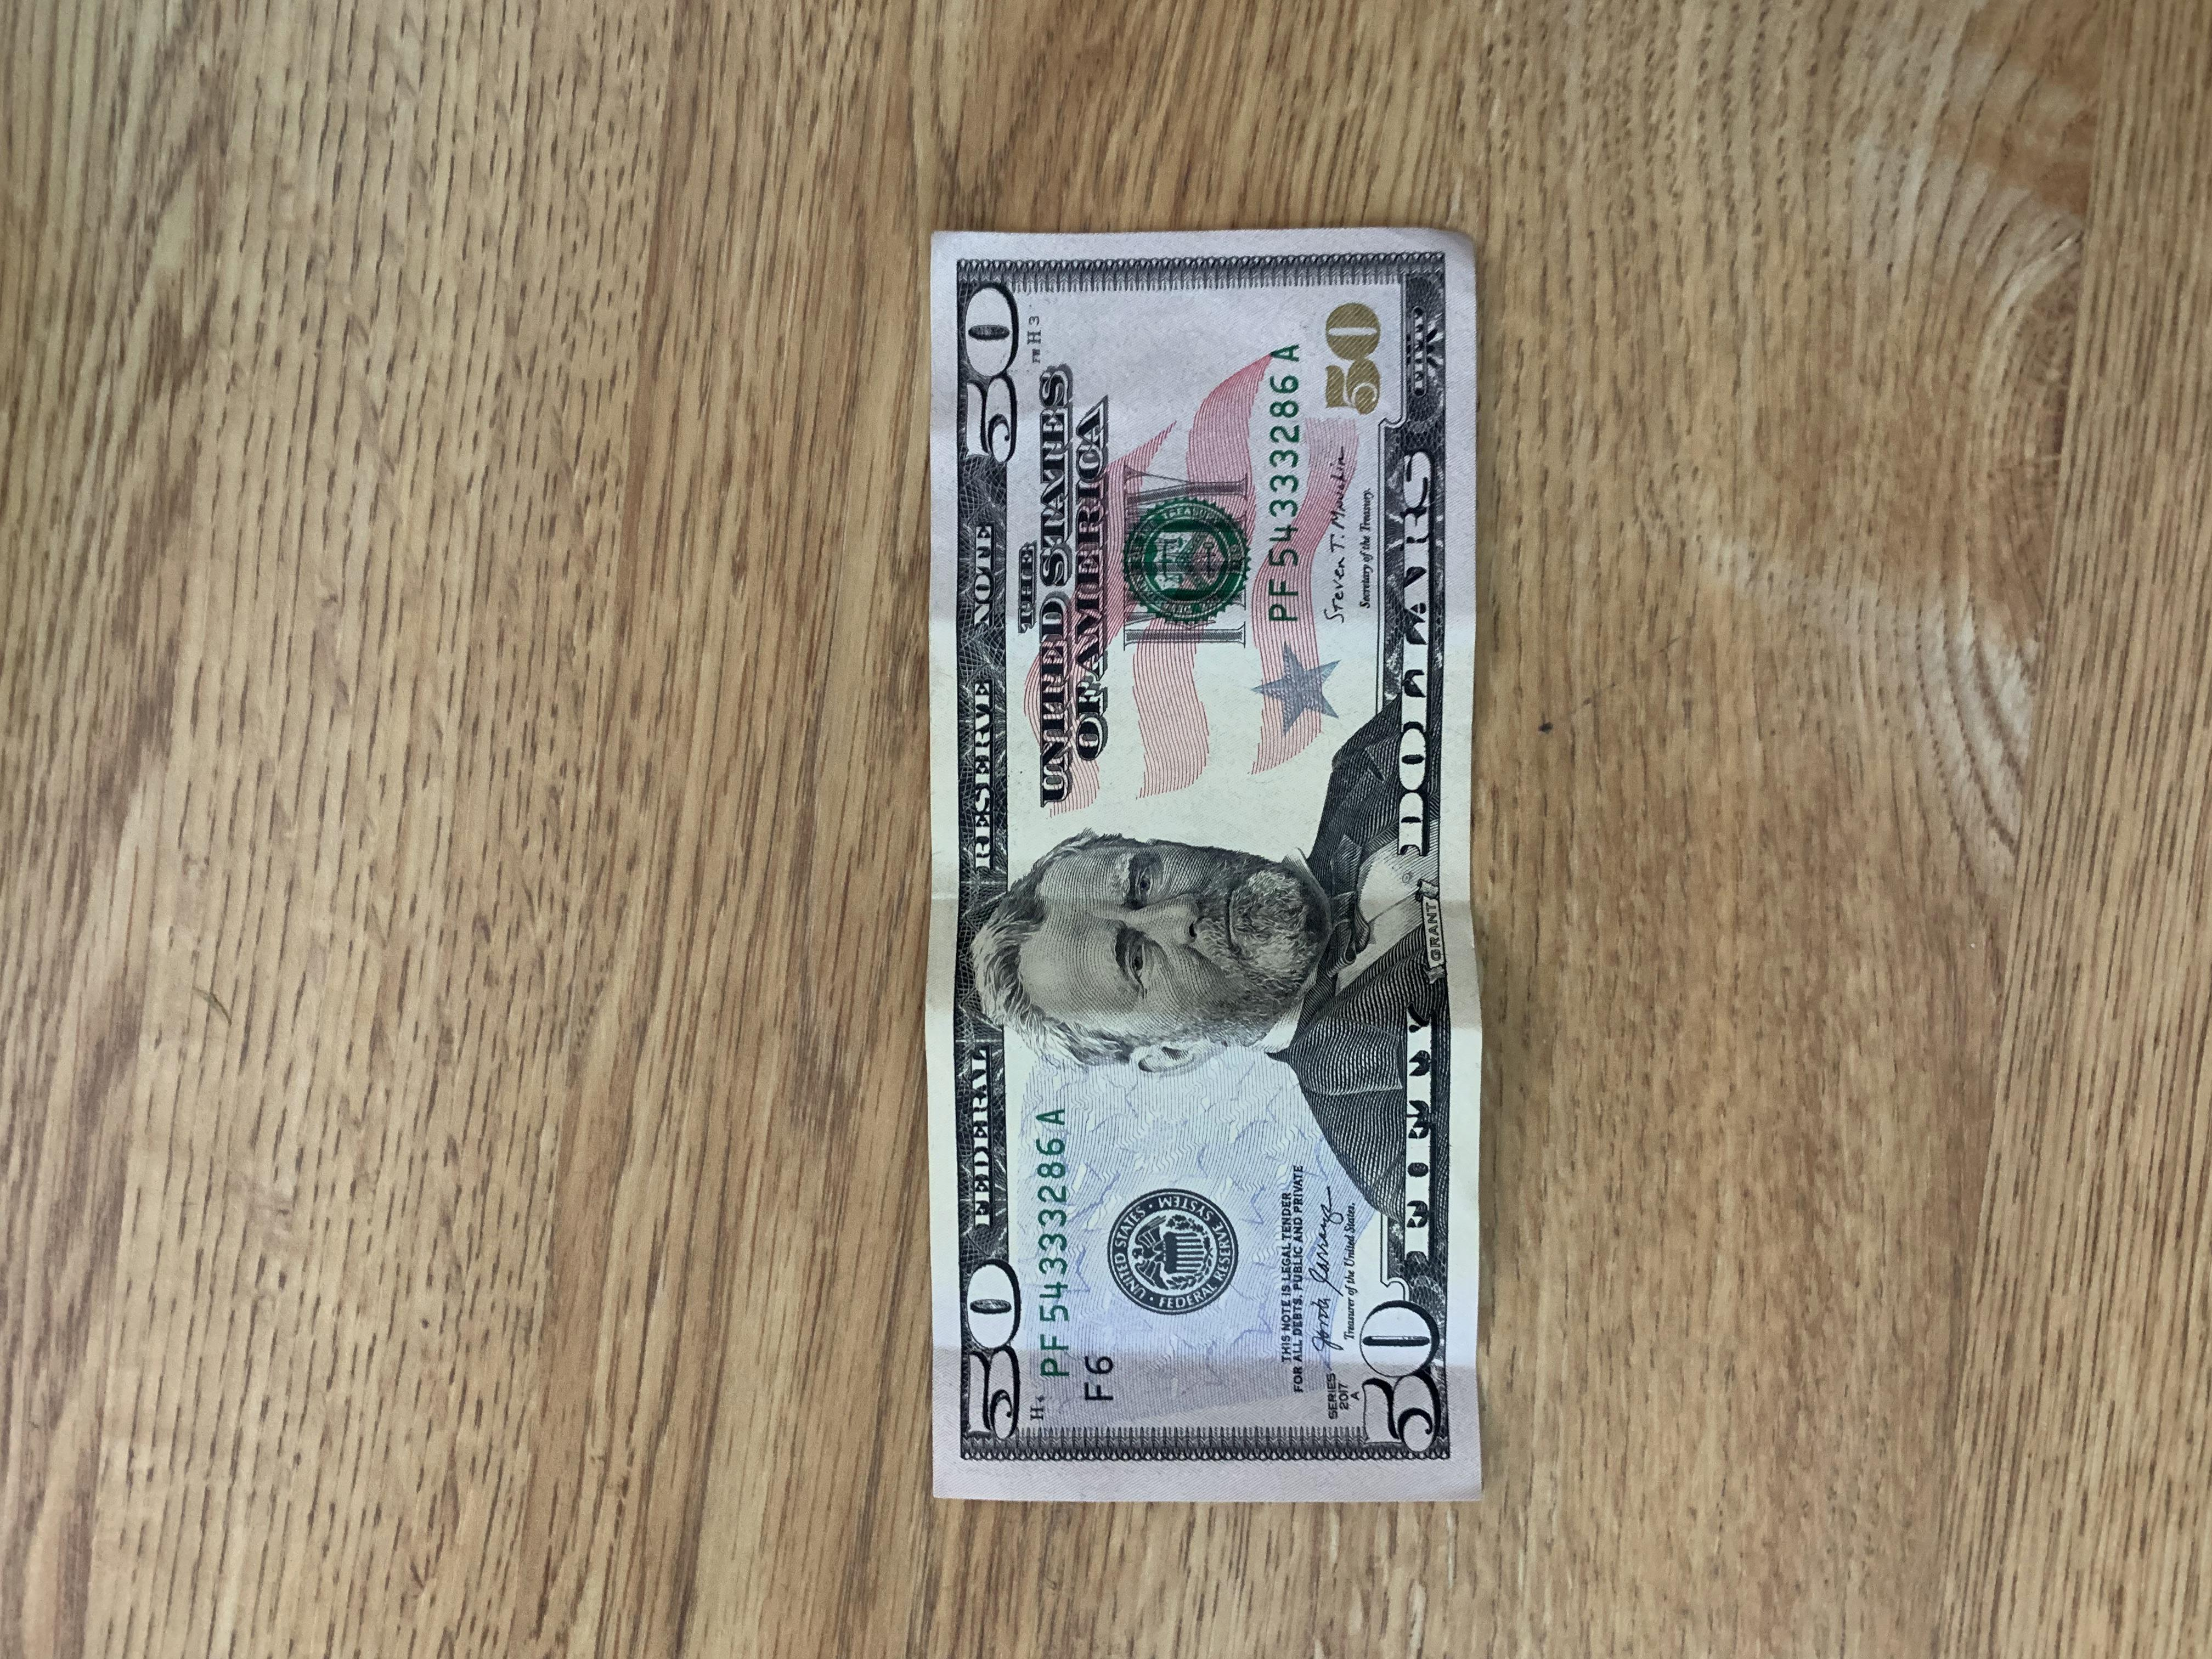FiftyBill: (927, 228, 1484, 1506)
